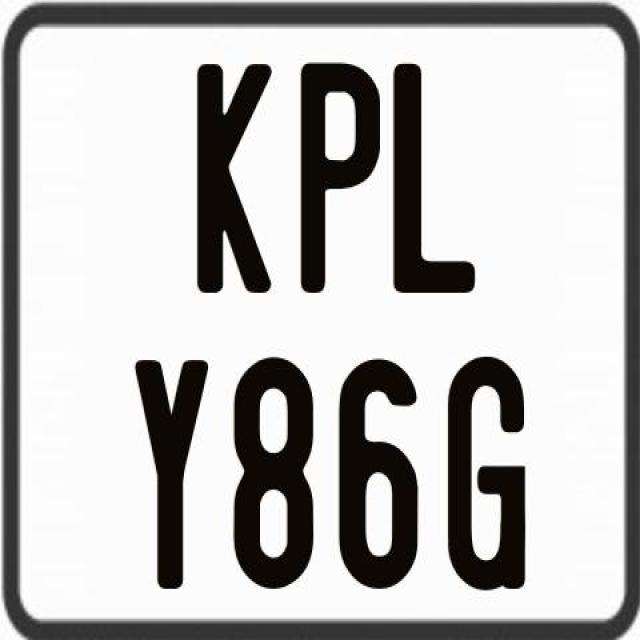6: (338, 357, 426, 597)
8: (233, 357, 315, 596)
G: (444, 352, 527, 587)
K: (197, 62, 272, 301)
L: (390, 62, 472, 301)
P: (298, 61, 378, 301)
Y: (130, 357, 210, 587)
